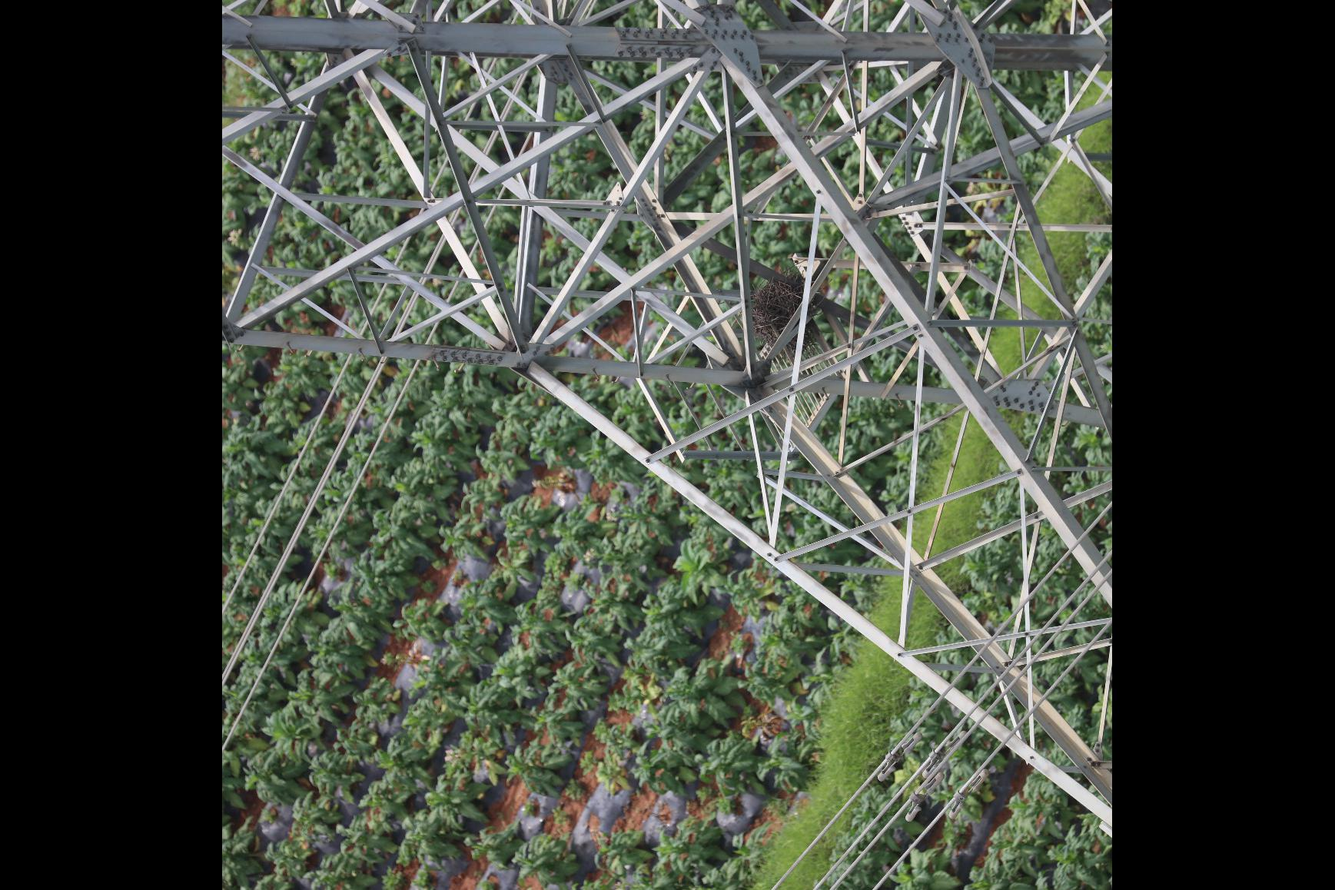damper: (919, 729, 970, 781), (875, 730, 925, 783), (945, 767, 991, 822), (902, 770, 946, 824)
nest: (749, 267, 804, 345)
